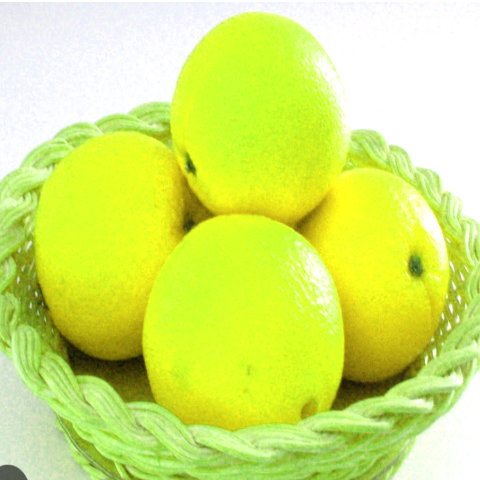orange: (137, 190, 359, 464), (13, 126, 207, 354), (159, 0, 350, 209), (289, 158, 465, 350)
